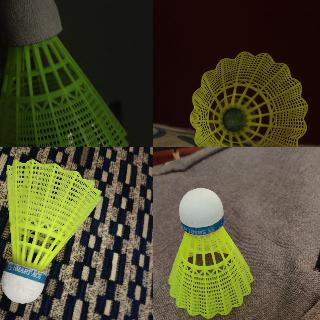shuttlecock: (0, 0, 128, 146), (1, 159, 101, 303), (188, 51, 308, 146), (166, 188, 254, 316)
